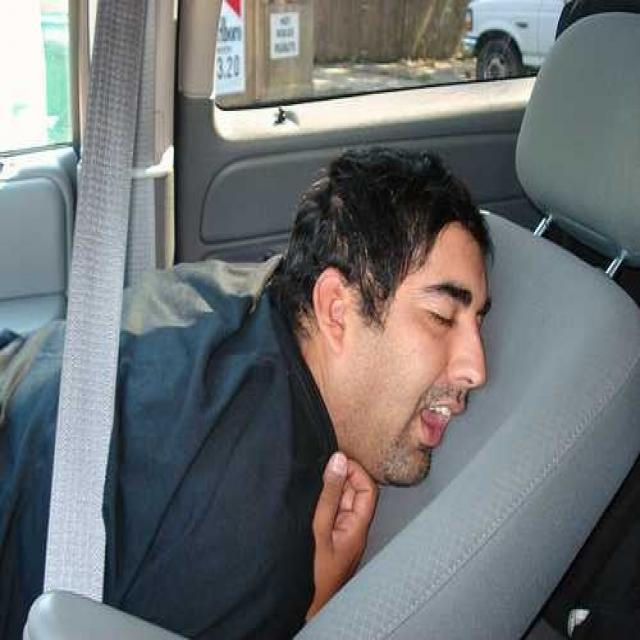seatbelt: (31, 14, 176, 556)
